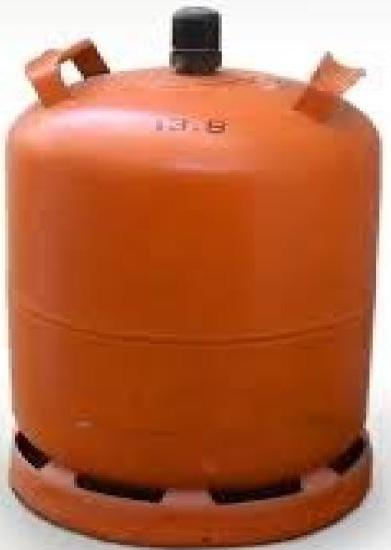cylinder: (1, 0, 391, 550)
